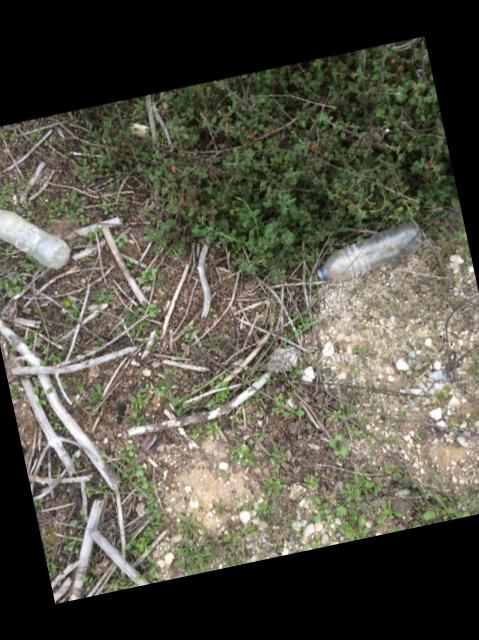plastic: (314, 222, 420, 280), (0, 209, 68, 269)
